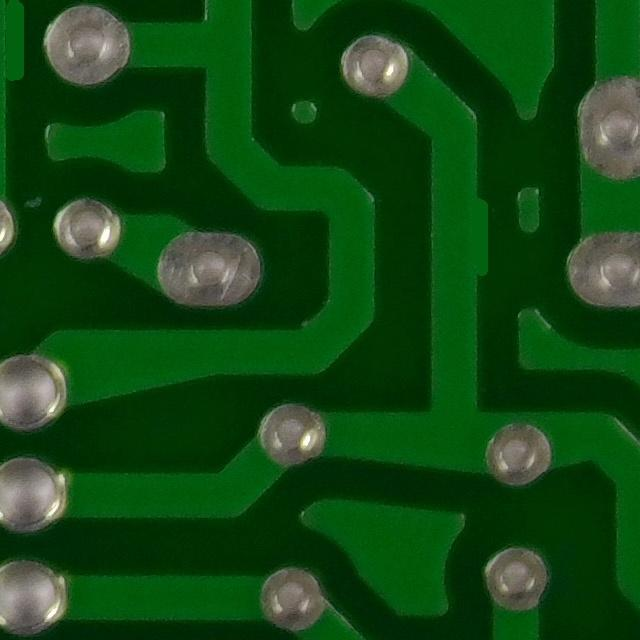spur: (434, 178, 504, 297), (0, 0, 37, 99)
